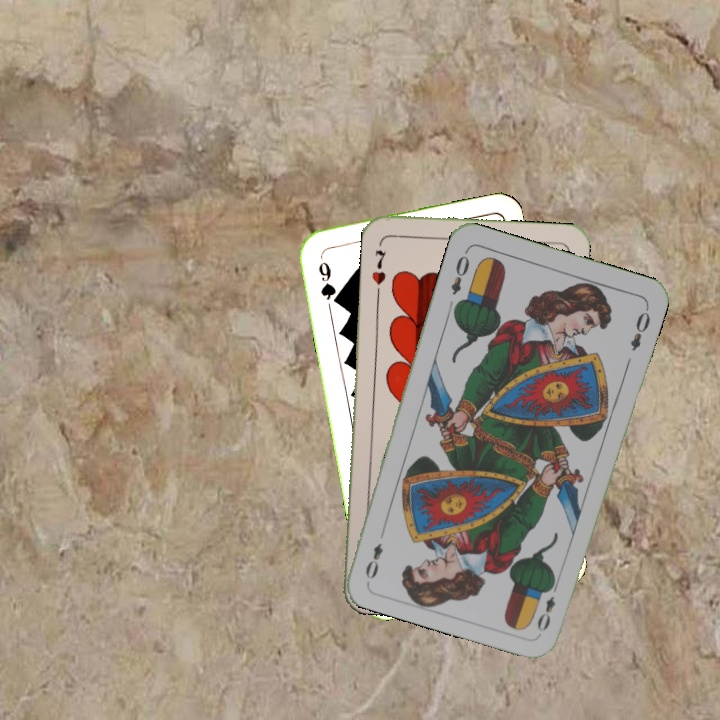EO: (533, 577, 561, 635), (446, 246, 472, 298)
G9: (314, 257, 342, 308)
H7: (367, 245, 389, 288)
